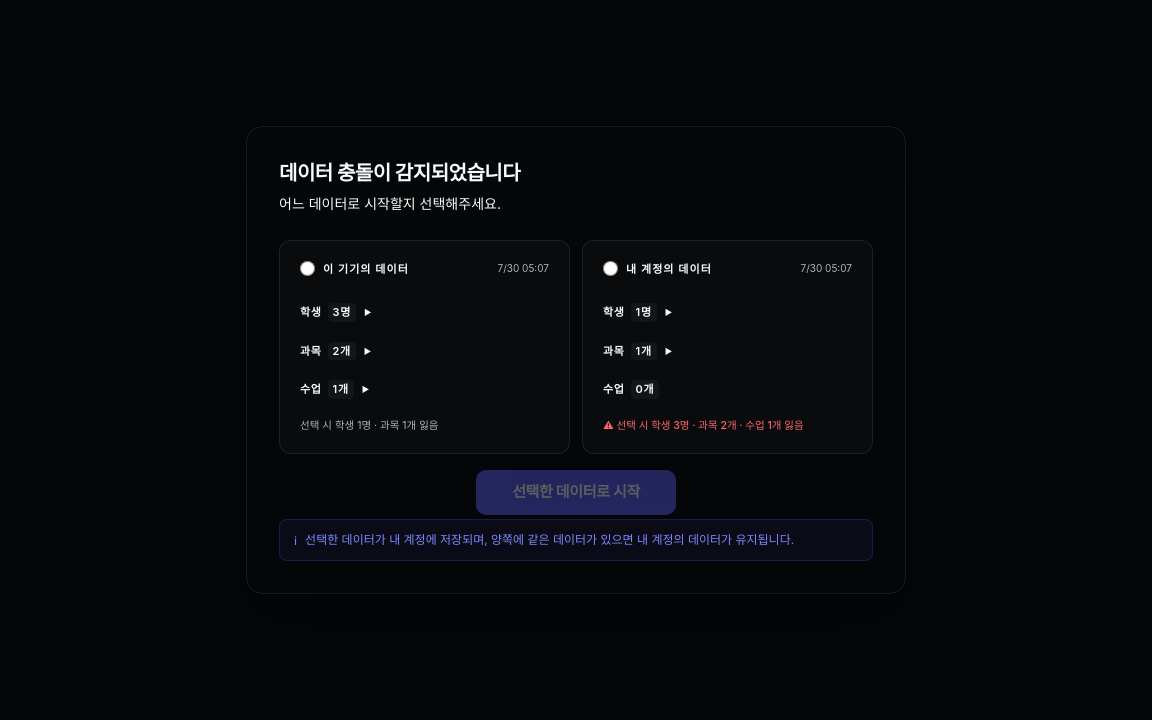
it: DataConflictModal › 과목 섹션 펼치면 모든 과목이 표시된다
The width and height of the screenshot is (1152, 720).
// 로컬 카드의 과목 섹션 펼치기
Click the text "2개" at (342, 351), box [328,342,356,360]
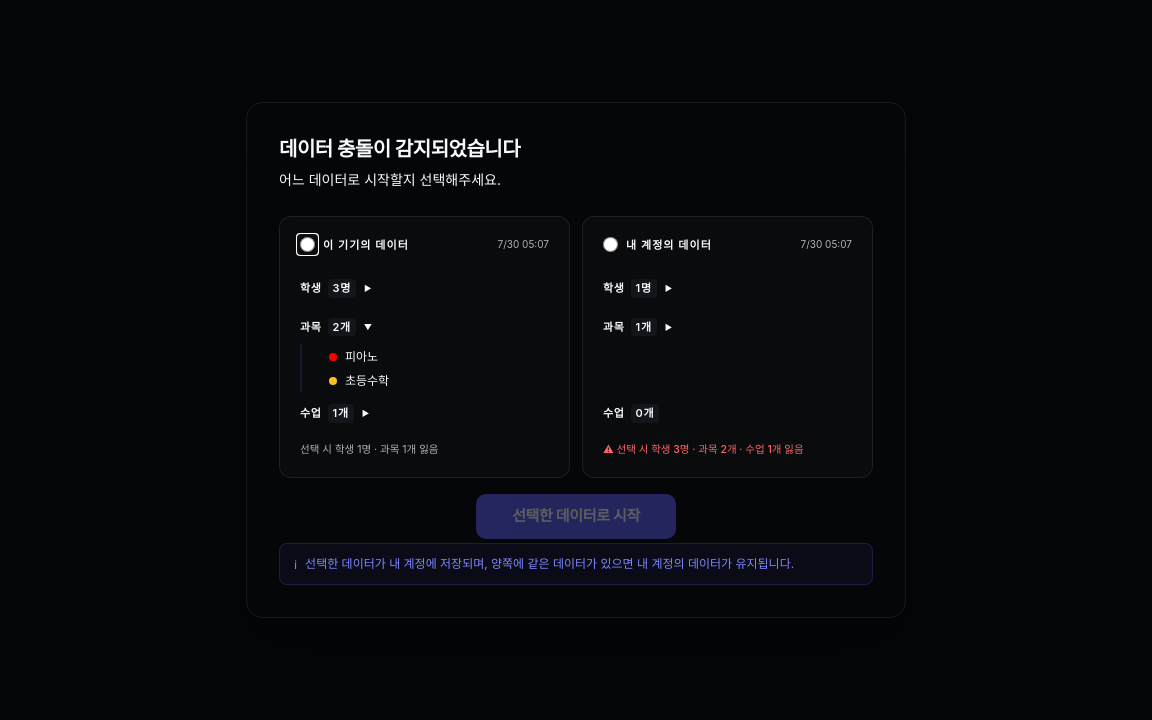
Check: the list item "피아노" is shown, box [329,349,378,364]
Check: the list item "초등수학" is shown, box [329,373,389,388]
